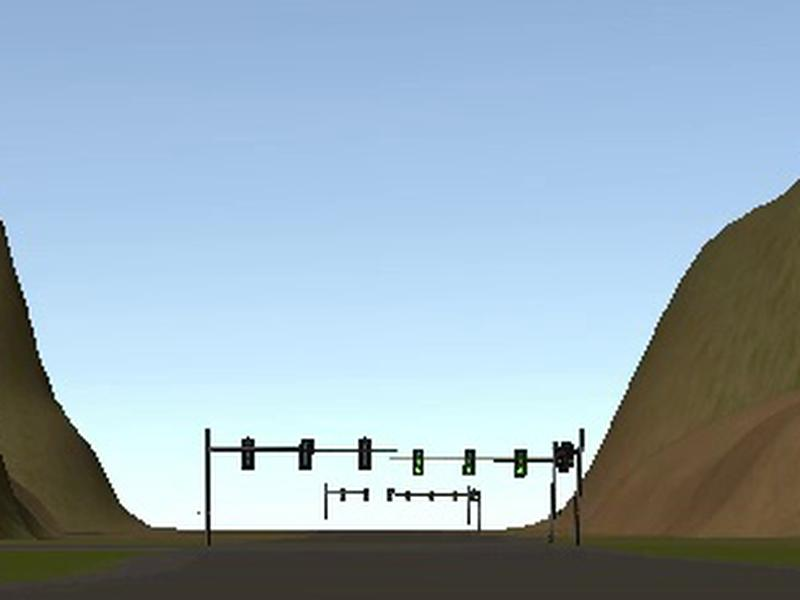Green: (513, 449, 527, 478), (462, 449, 475, 476), (413, 450, 423, 476)
